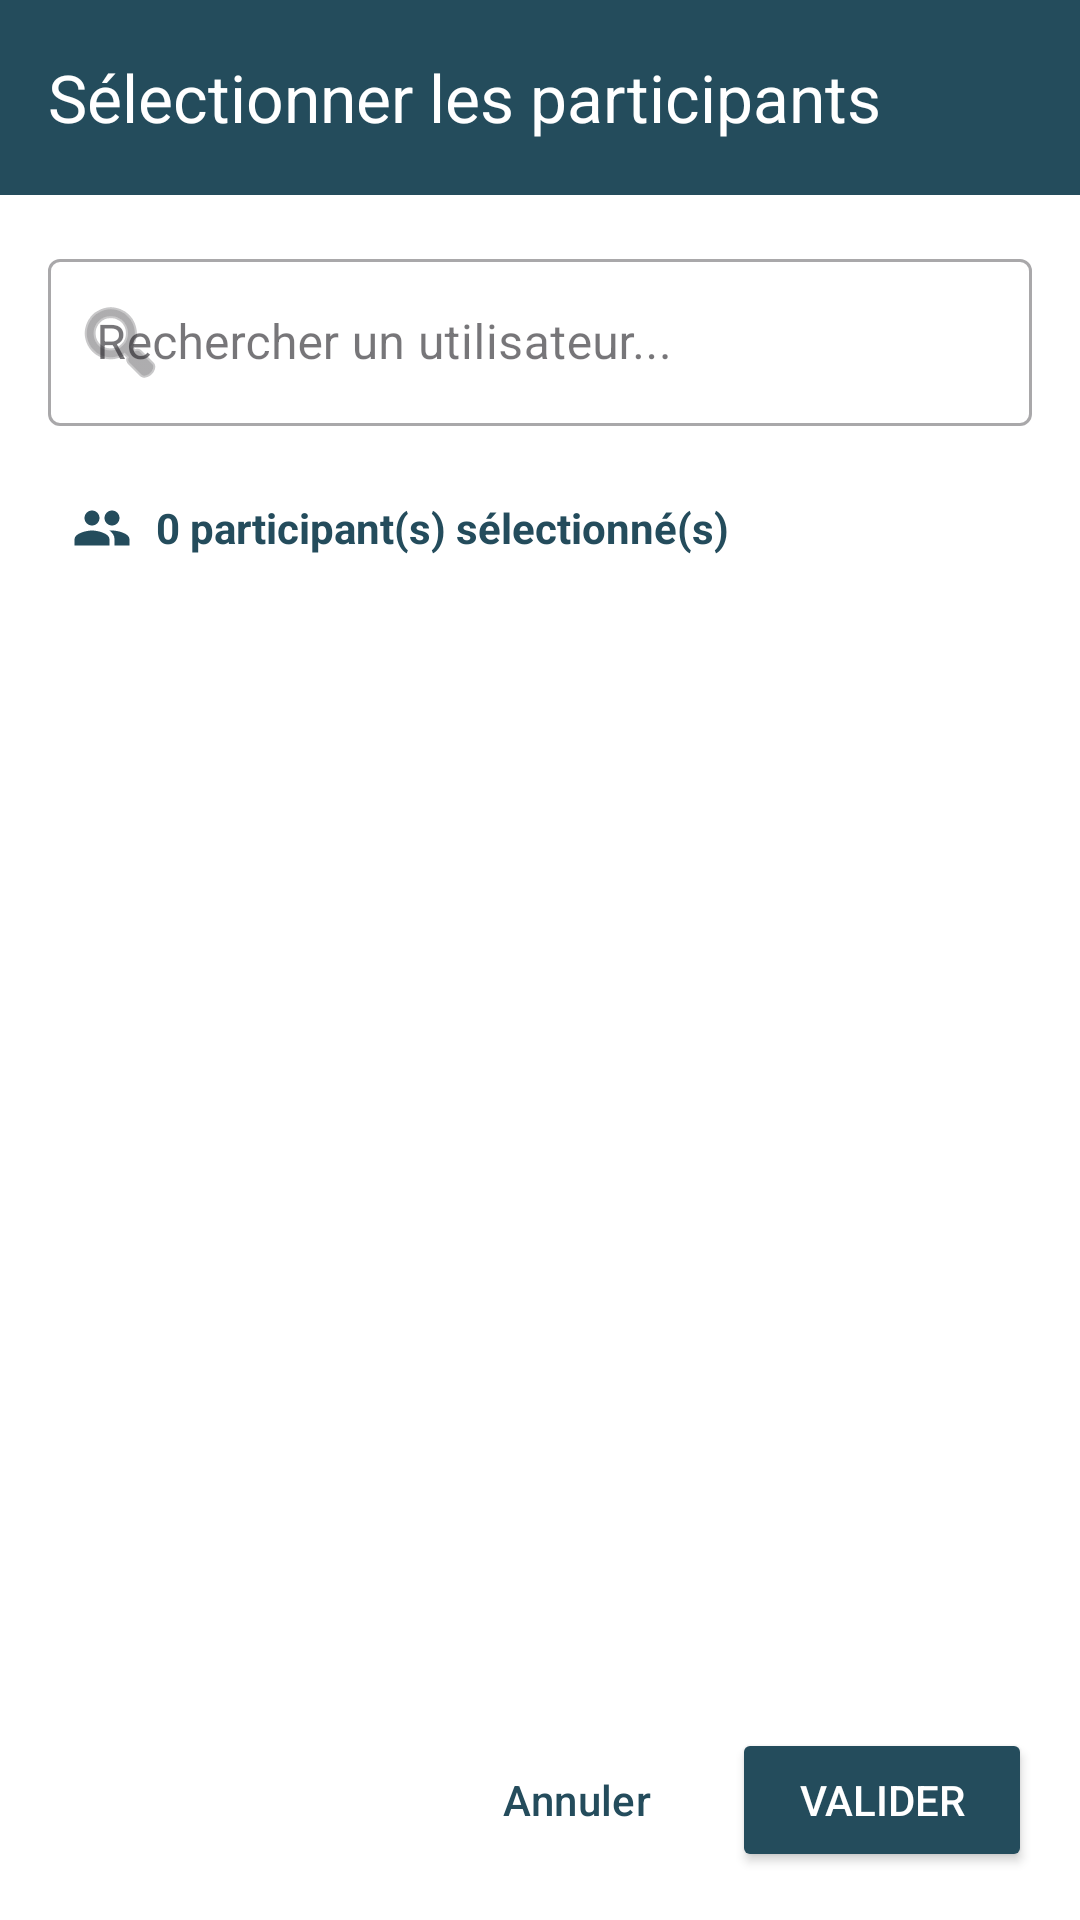

Where to tap for icons on this 1080*1920 app screen, as point (x, y):
people: point (102, 528)
